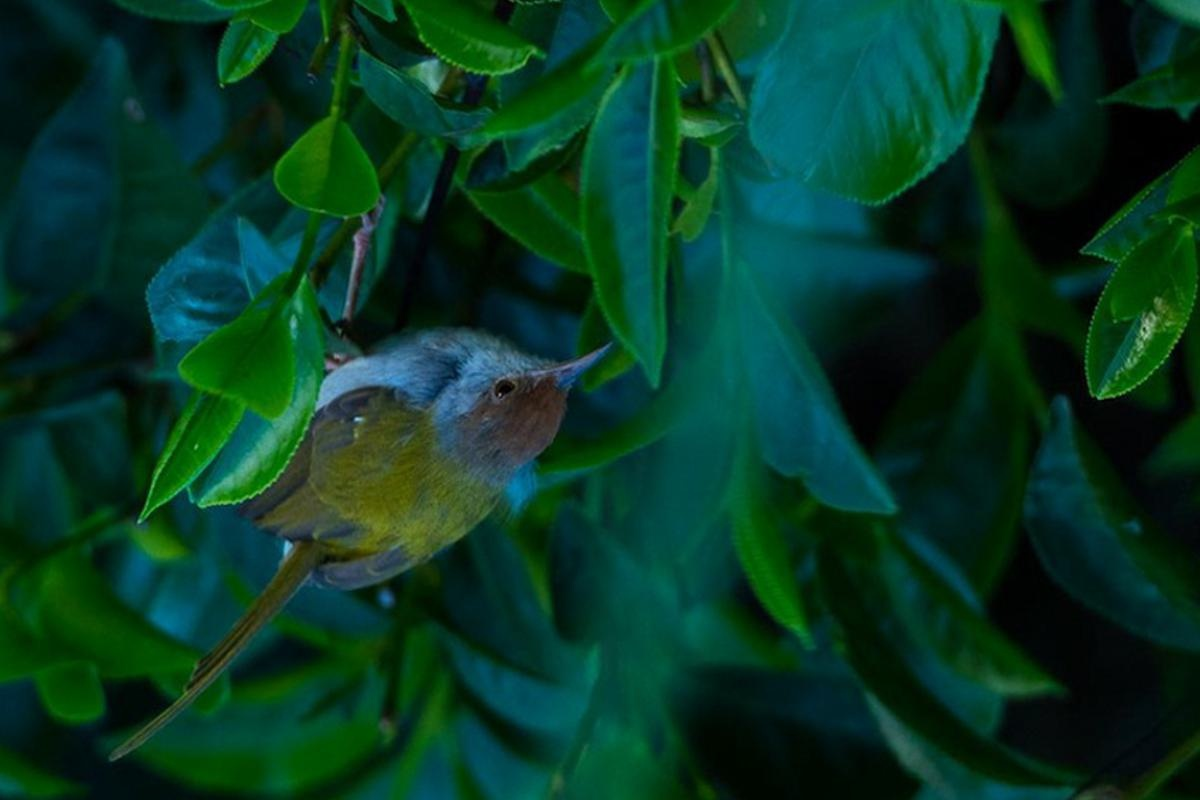tailorbird: (168, 288, 671, 602)
